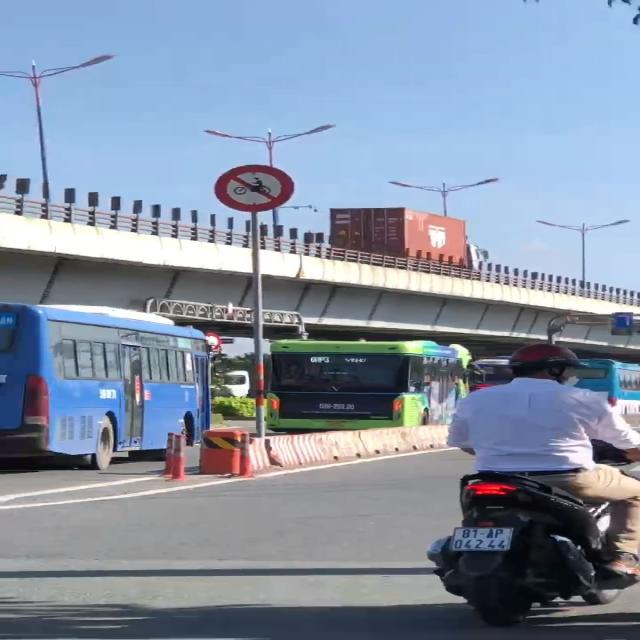Bien bao cam xe may: (203, 158, 298, 217)
